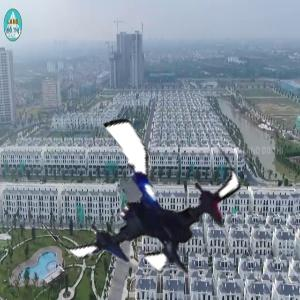drone: (43, 100, 243, 300)
